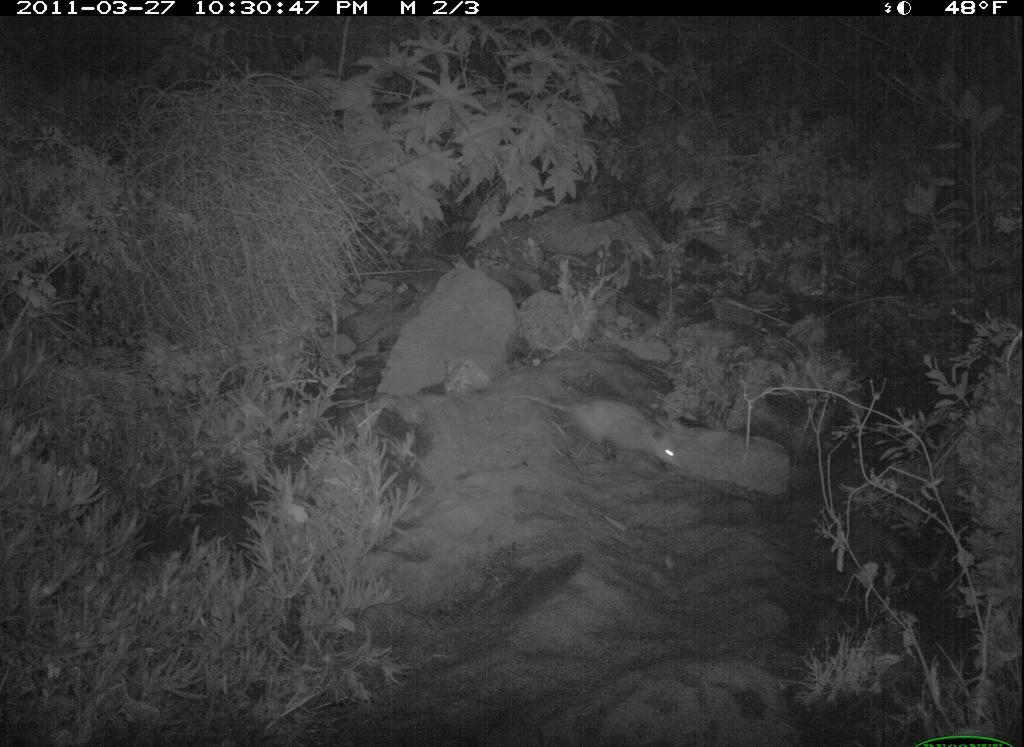opossum: (504, 385, 692, 482)
